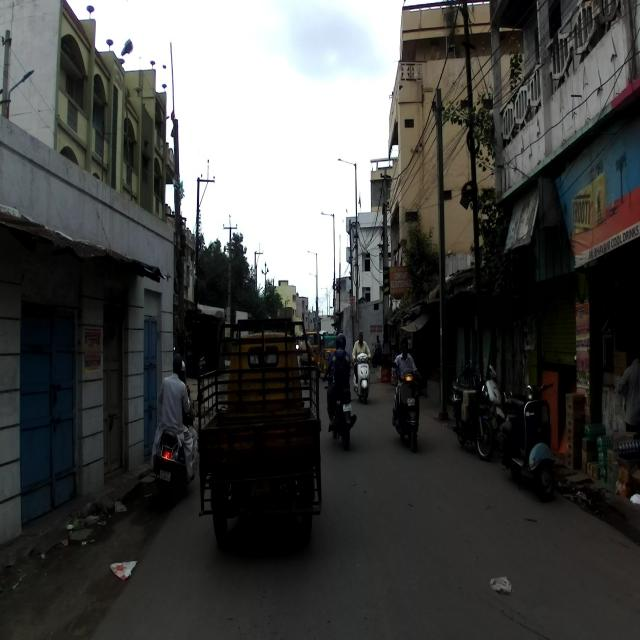autorickshaw: (197, 315, 322, 543)
motorcycle: (449, 378, 492, 458), (321, 362, 357, 450)
scooter: (500, 380, 556, 499), (151, 396, 198, 508), (390, 358, 424, 453), (479, 359, 506, 439)
